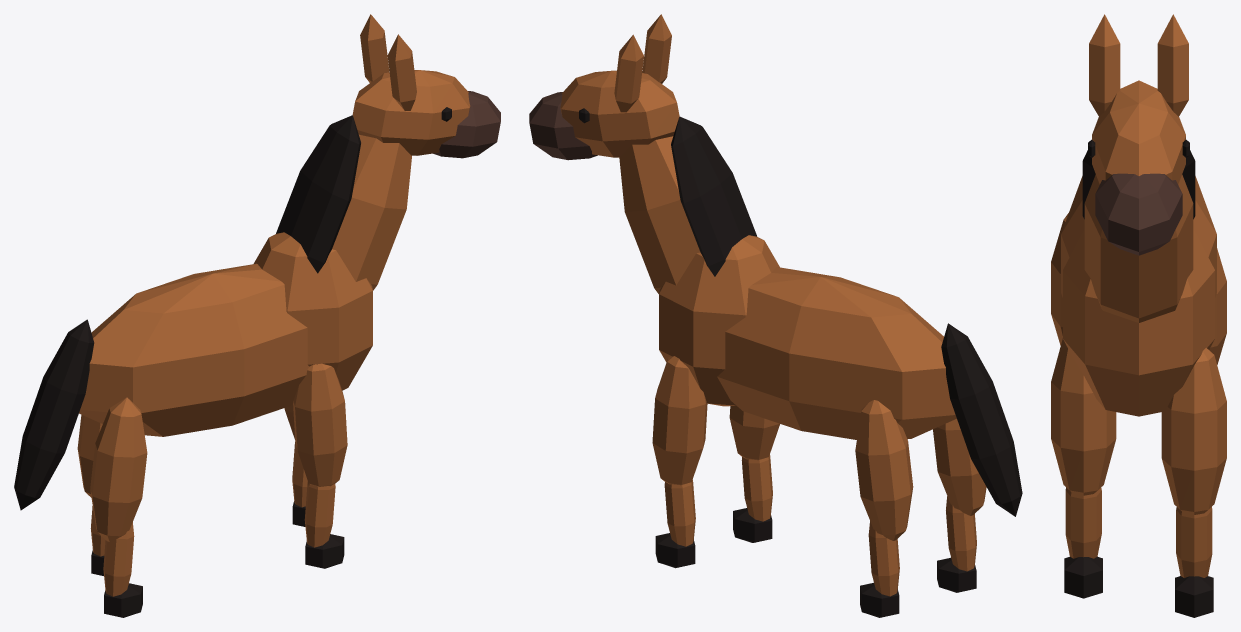
The model's file is horse.obj.
3 renders of one model, left to right at view 1: azimuth 30°, elevation 25°; view 2: azimuth 150°, elevation 25°; view 3: azimuth 270°, elevation 25°, orthographic. The views are drawn at different scales.
Parts seen in each view (by area): view 1: body, chest, neck, tail, mane, head, upper-leg-0.760.29, upper-leg0.760.29, muzzle, lower-leg0.760.29, lower-leg-0.760.29, ear0.18 (+5 smaller); view 2: body, chest, neck, tail, mane, head, upper-leg-0.76-0.29, upper-leg0.76-0.29, upper-leg-0.760.29, muzzle, upper-leg0.760.29, lower-leg0.76-0.29 (+9 smaller); view 3: chest, neck, upper-leg0.76-0.29, head, upper-leg0.760.29, muzzle, ear-0.18, ear0.18, body, lower-leg0.76-0.29, lower-leg0.760.29, hoof0.76-0.29 (+4 smaller).
Boxes of the visible parts, x1=… form: body: x1=79, y1=263, x2=309, y2=436; chest: x1=253, y1=232, x2=372, y2=390; neck: x1=332, y1=134, x2=411, y2=290; tail: x1=14, y1=319, x2=94, y2=510; mane: x1=276, y1=115, x2=360, y2=273; head: x1=352, y1=70, x2=470, y2=155; upper-leg-0.760.29: x1=90, y1=397, x2=147, y2=541; upper-leg0.760.29: x1=293, y1=363, x2=347, y2=486; muzzle: x1=433, y1=91, x2=500, y2=158; lower-leg0.760.29: x1=304, y1=481, x2=335, y2=547; lower-leg-0.760.29: x1=103, y1=522, x2=134, y2=596; ear0.18: x1=387, y1=34, x2=416, y2=110; body: x1=717, y1=267, x2=956, y2=439; chest: x1=659, y1=235, x2=779, y2=406; neck: x1=619, y1=136, x2=700, y2=293; tail: x1=941, y1=323, x2=1022, y2=516; mane: x1=671, y1=116, x2=756, y2=276; head: x1=560, y1=70, x2=679, y2=157; upper-leg-0.76-0.29: x1=855, y1=400, x2=913, y2=540; upper-leg0.76-0.29: x1=652, y1=356, x2=707, y2=485; upper-leg-0.760.29: x1=933, y1=419, x2=986, y2=515; muzzle: x1=529, y1=92, x2=597, y2=160; upper-leg0.760.29: x1=729, y1=405, x2=779, y2=460; lower-leg0.76-0.29: x1=664, y1=480, x2=695, y2=546; chest: x1=1063, y1=229, x2=1214, y2=416; neck: x1=1084, y1=174, x2=1193, y2=322; upper-leg0.76-0.29: x1=1161, y1=348, x2=1226, y2=514; head: x1=1092, y1=80, x2=1185, y2=184; upper-leg0.760.29: x1=1051, y1=338, x2=1116, y2=495; muzzle: x1=1095, y1=173, x2=1182, y2=255; ear-0.18: x1=1157, y1=14, x2=1188, y2=116; ear0.18: x1=1089, y1=14, x2=1120, y2=116; body: x1=1061, y1=176, x2=1216, y2=297; lower-leg0.76-0.29: x1=1176, y1=507, x2=1212, y2=577; lower-leg0.760.29: x1=1065, y1=487, x2=1101, y2=558; hoof0.76-0.29: x1=1175, y1=576, x2=1213, y2=617.
Bounding box in the file's own units: 3.66 × 3.67 × 0.9224.
